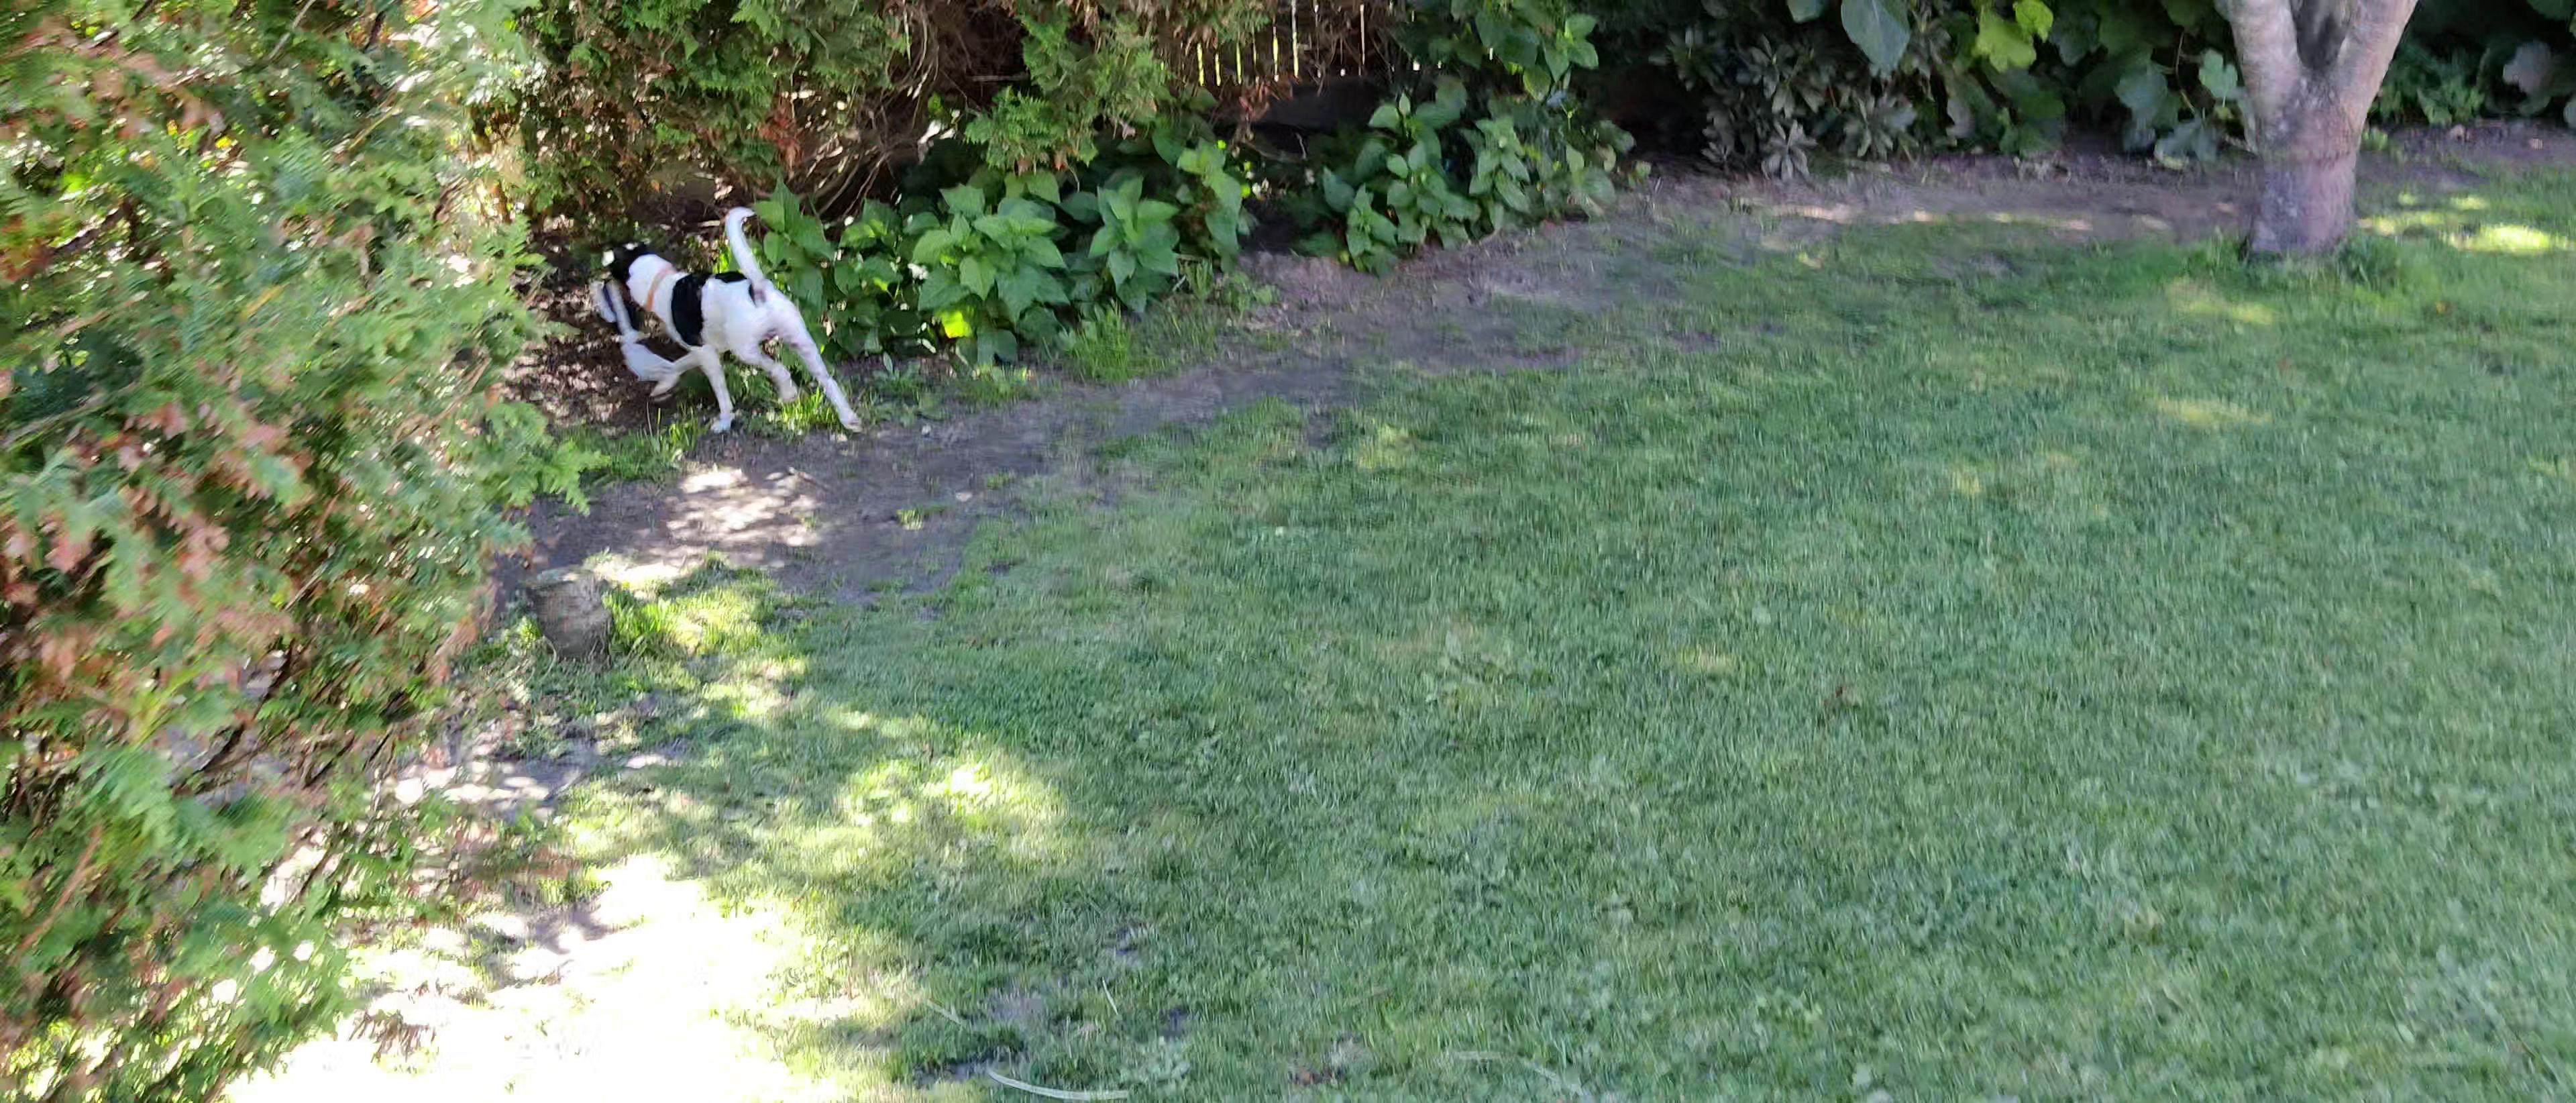Dog: (596, 204, 866, 442)
